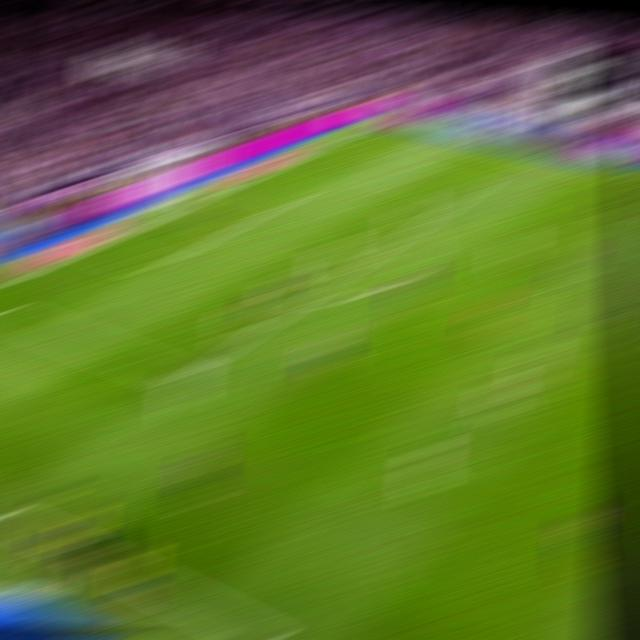bigarea_bottom_inner: (163, 369, 194, 383)
bigarea_top_inner: (458, 188, 485, 194)
bigarea_top_outter: (299, 150, 326, 155)
bottom_arc_area_intersection: (290, 294, 321, 305)
corner: (367, 121, 394, 123)
smallarea_top_inner: (282, 195, 308, 200)
top_arc_area_intersection: (390, 229, 420, 237)
